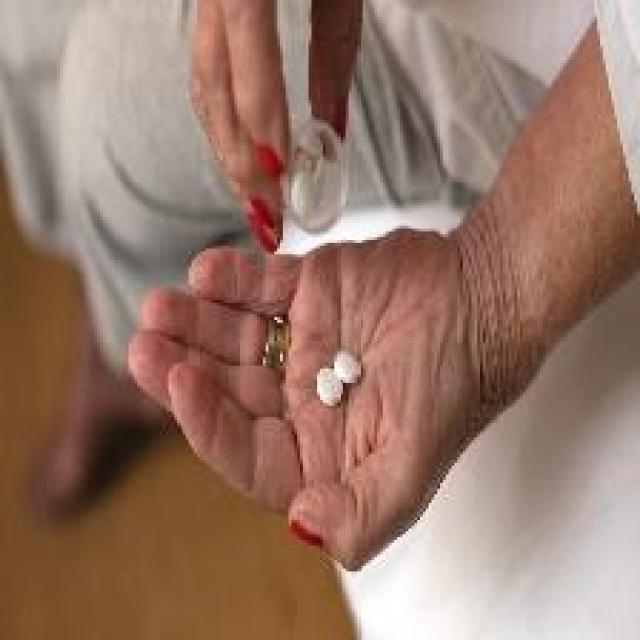Medicine: (295, 344, 381, 417)
